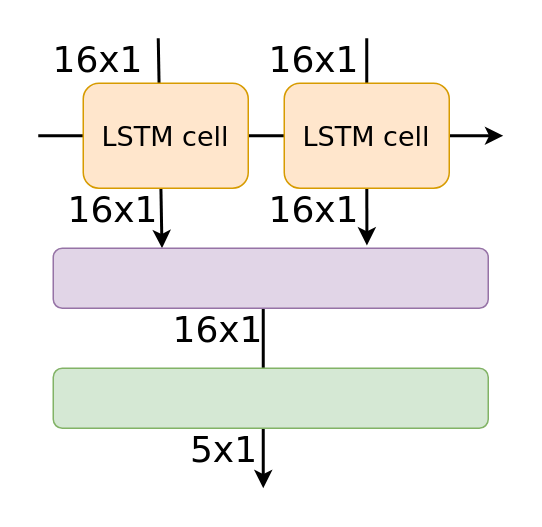
The diagram is 542 pixels wide and 527 high, and some of its shapes have lost their labels. Here are the shapes that lost their labels. From the top down, the box of each, then its label:
(52, 247, 488, 308): Max Pool
(52, 367, 488, 428): Linear (16 x 5)
